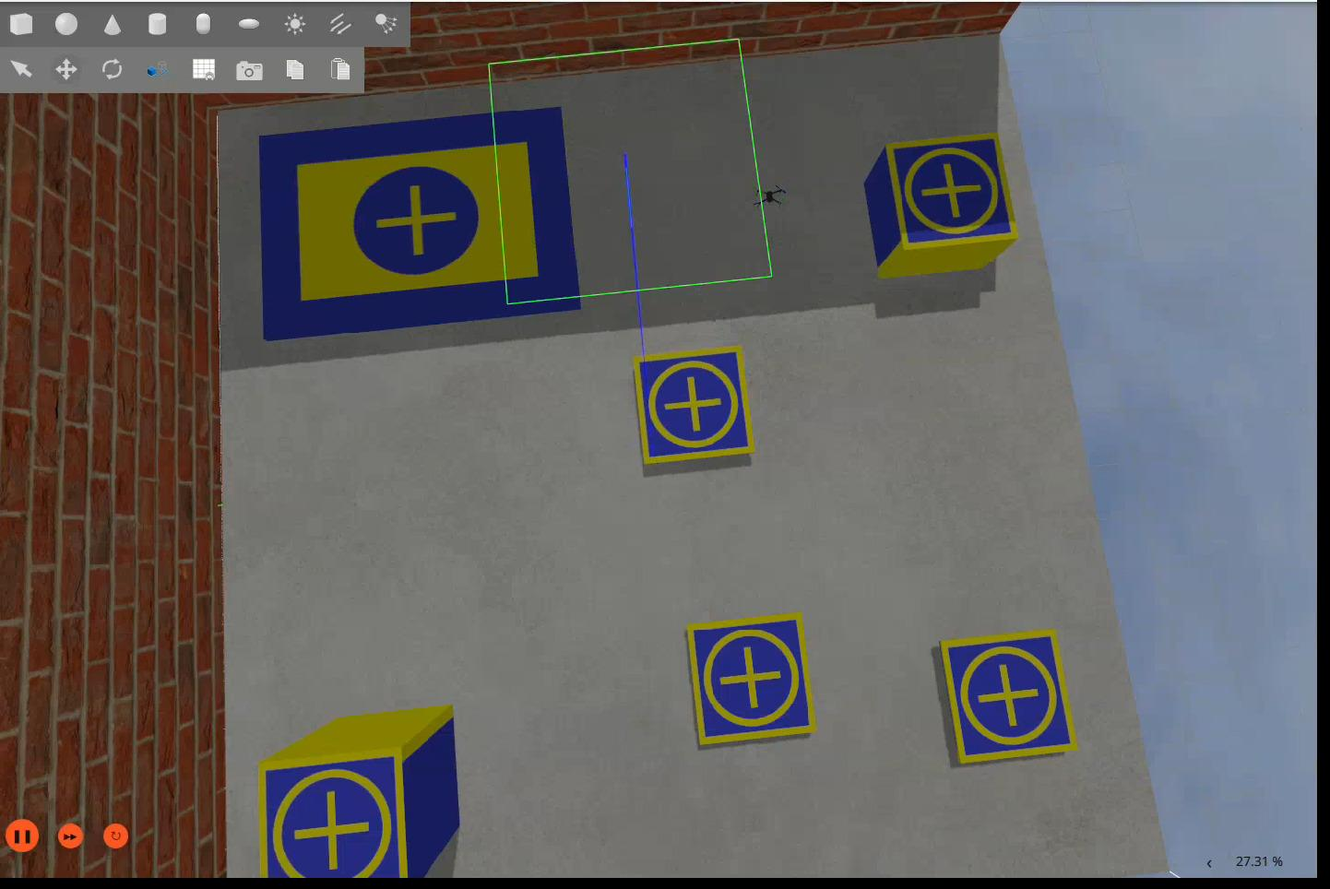large_base: (261, 104, 586, 346)
small_base: (256, 742, 415, 881), (939, 630, 1082, 772), (681, 611, 821, 751), (884, 136, 1019, 253), (631, 346, 756, 472)
